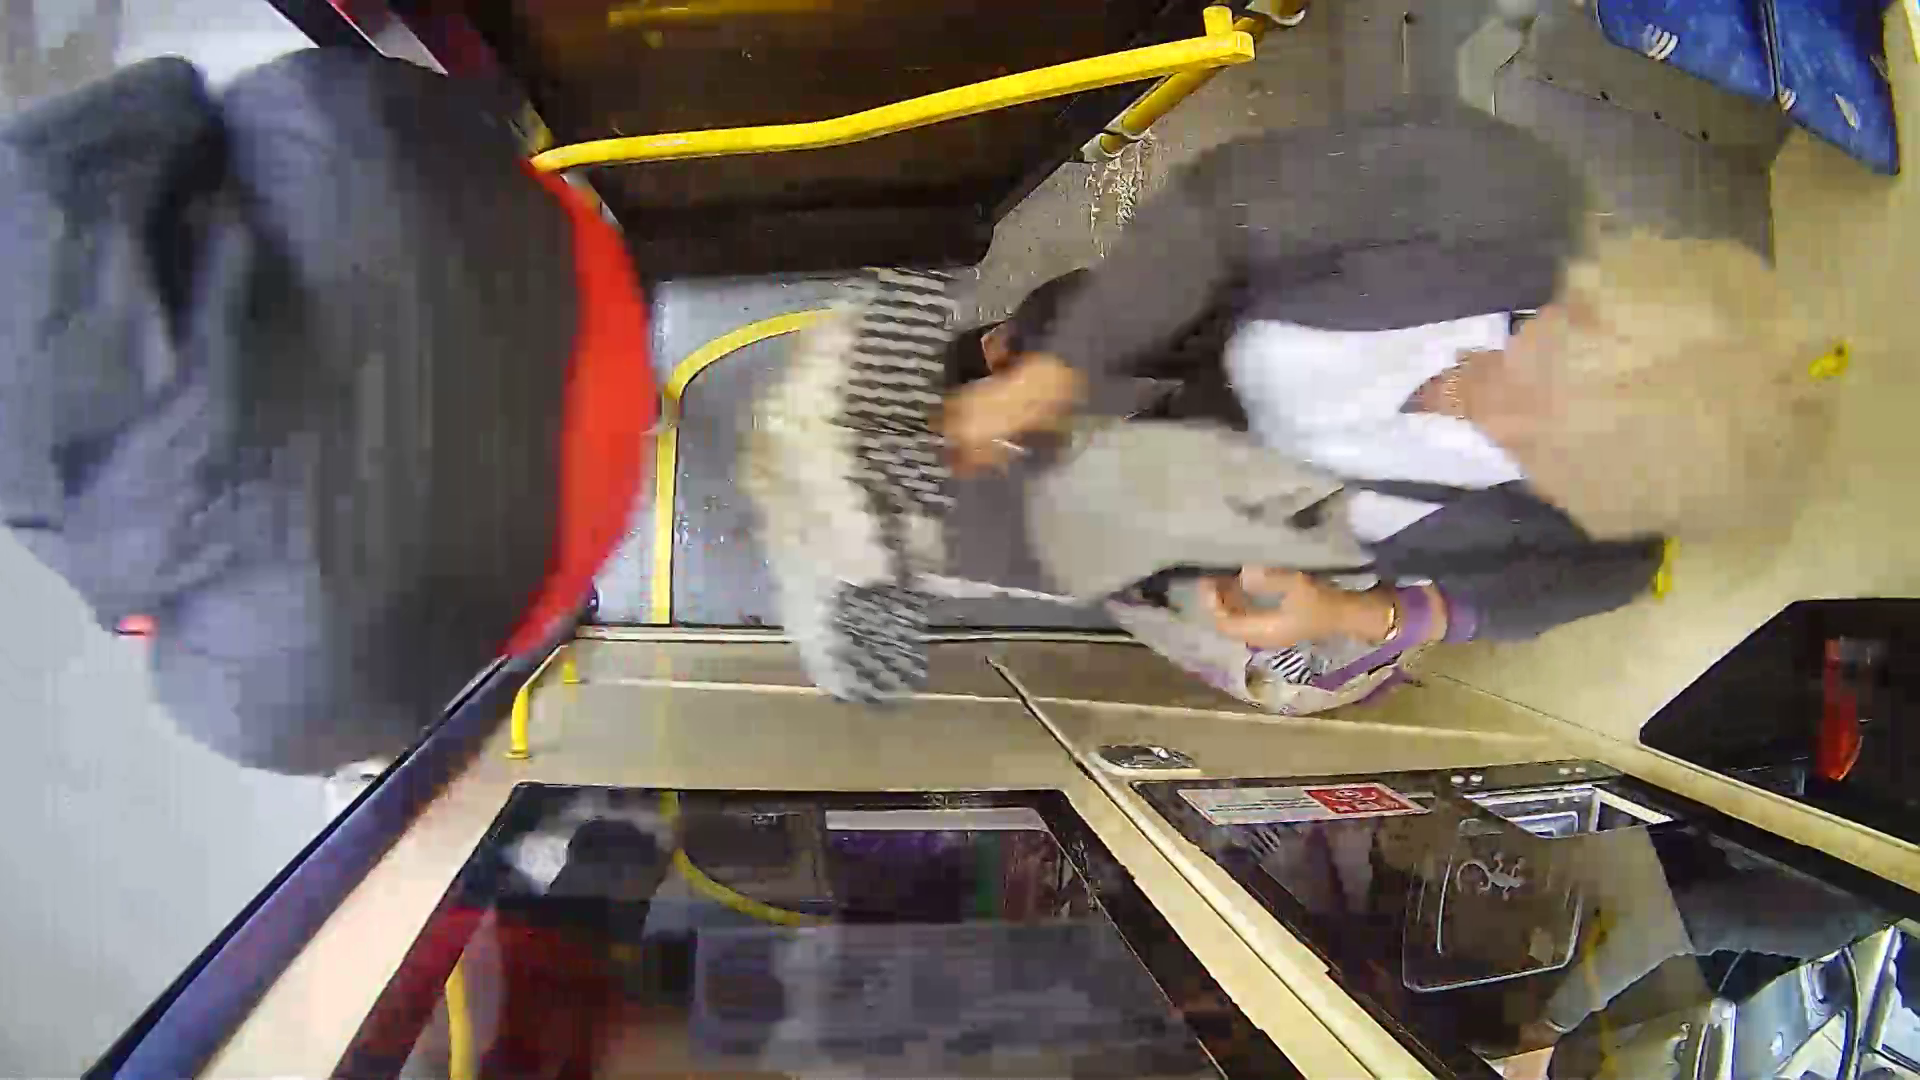person: (1024, 156, 1854, 697)
